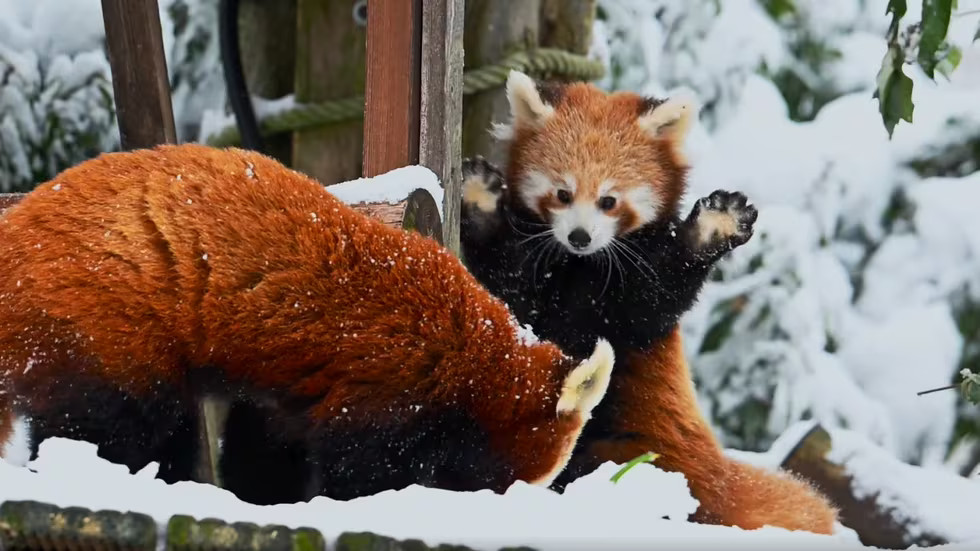Red panda: (498, 58, 697, 259)
